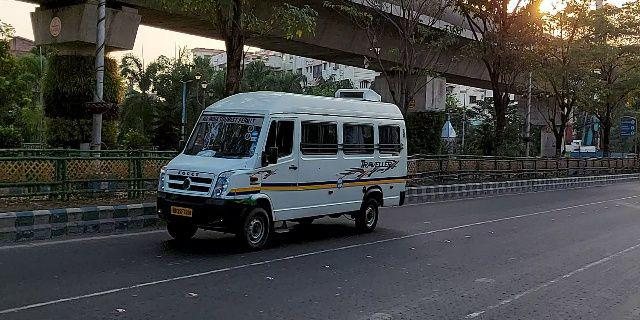Van: (152, 85, 414, 250)
